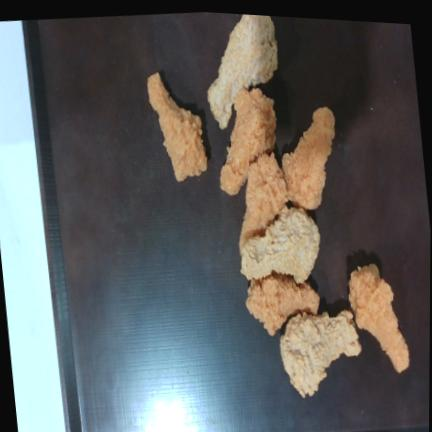chicken: (208, 14, 277, 128), (280, 310, 361, 397), (147, 72, 207, 181), (349, 264, 408, 372), (220, 88, 276, 194), (241, 209, 320, 283), (282, 107, 334, 209), (239, 154, 288, 251), (246, 274, 320, 336)
